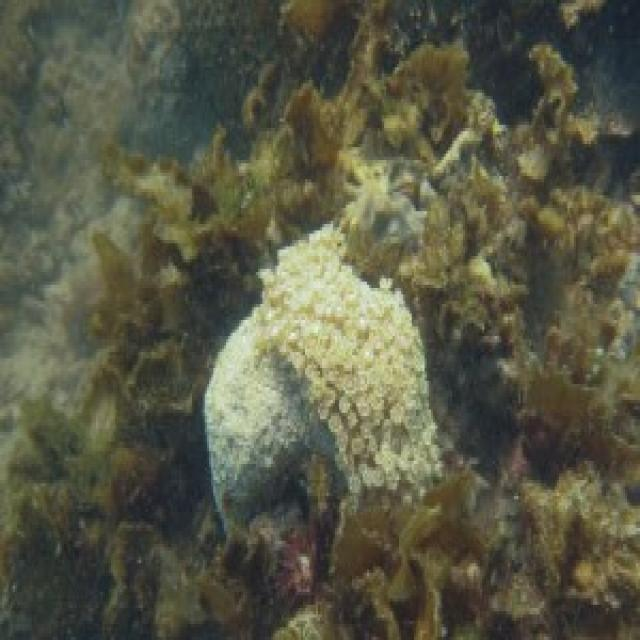Bleached: (257, 225, 440, 494), (206, 308, 315, 516)
